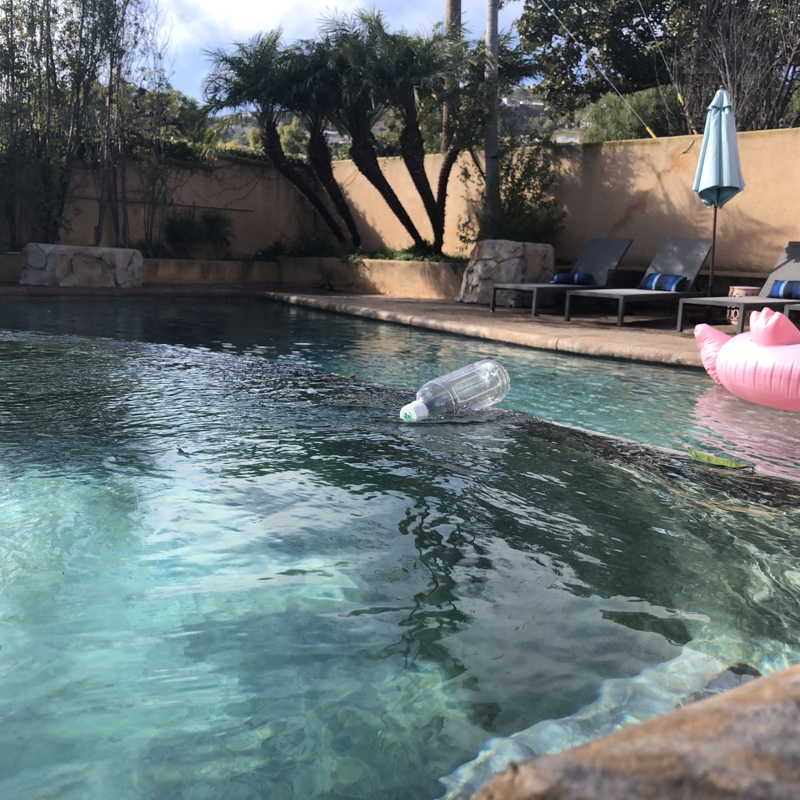Plastic Bottle: (391, 354, 518, 429)
